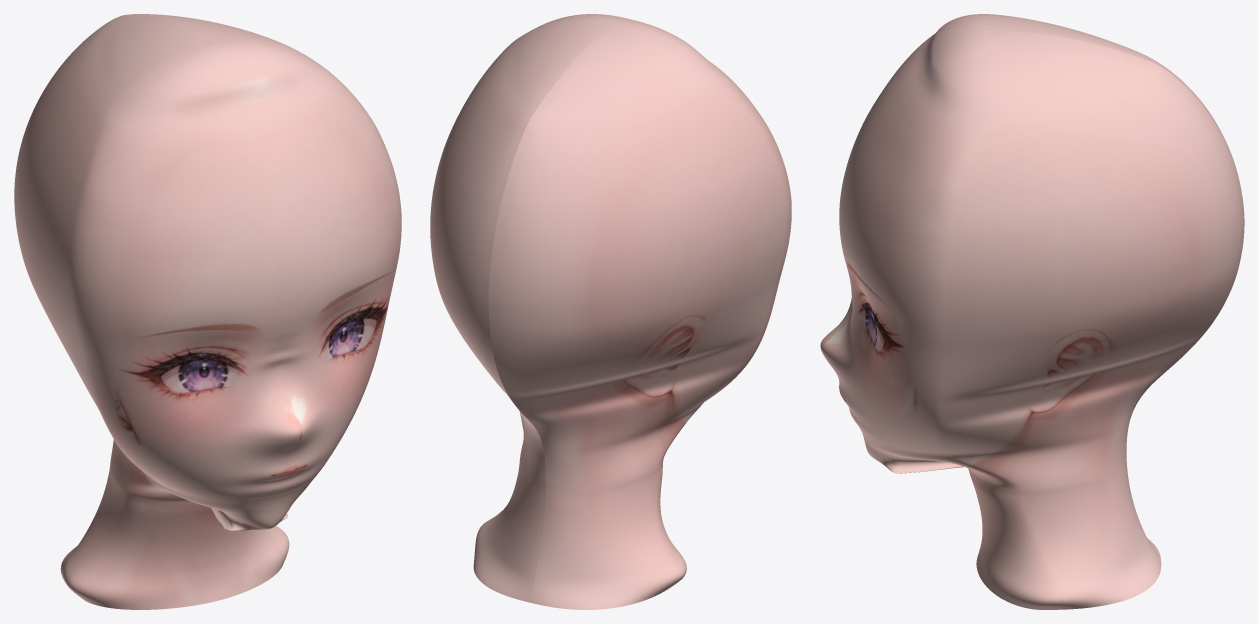
The picture shows the model from 3 angles, left to right: view 1: azimuth 30°, elevation 25°; view 2: azimuth 150°, elevation 25°; view 3: azimuth 270°, elevation 25°; orthographic projection. The views are drawn at different scales.
Parts seen in each view (by area): view 1: Head; view 2: Head; view 3: Head.
Boxes of the visible parts, x1,y1,x2,y2 form: Head: [14, 14, 401, 609]; Head: [430, 14, 791, 609]; Head: [820, 14, 1244, 609].
Bounding box in the file's own units: 0.1945 × 0.3175 × 0.2288.
1 material, 1 textured.
